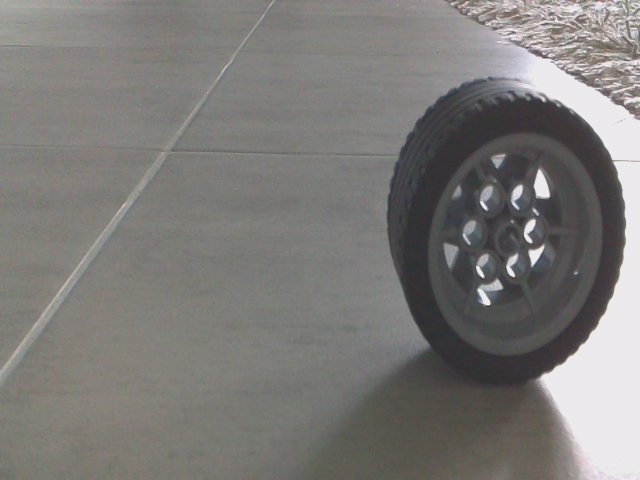Rad: (380, 70, 632, 388)
